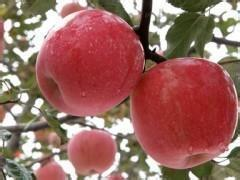apple: (131, 58, 239, 168), (37, 9, 146, 117), (67, 129, 115, 175)
